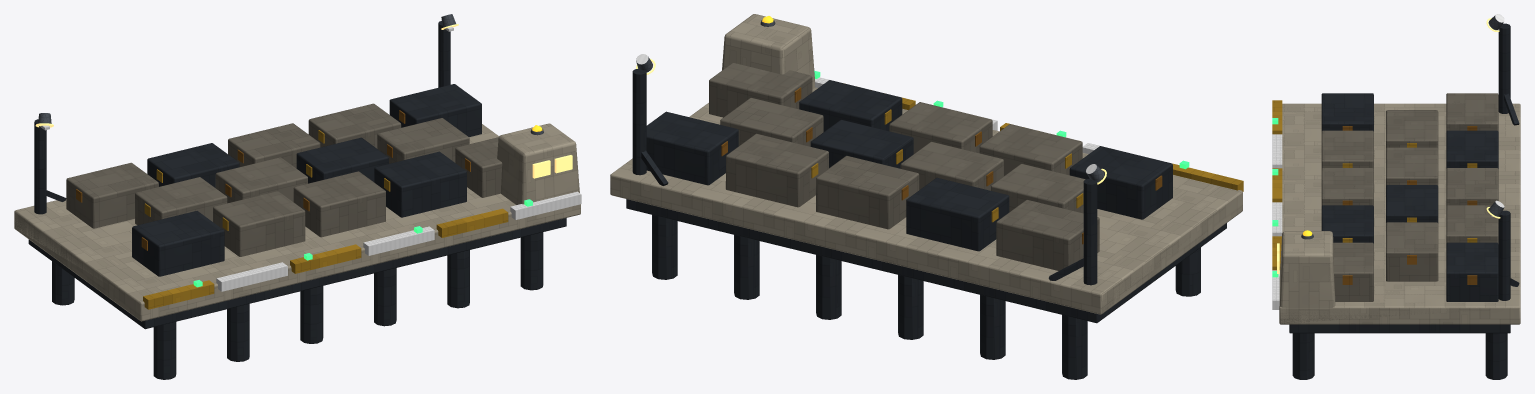
The model's file is place_freight_platform.glb.
3 views of the same model, side by side, from view 1: azimuth 30°, elevation 25°; view 2: azimuth 150°, elevation 25°; view 3: azimuth 270°, elevation 25° (orthographic). The views are drawn at different scales.
Parts seen in each view (by area): view 1: LOD0_Armor, LOD0_Hull_aged, LOD0_Hull, LOD1_Hull, LOD1_Hull_aged, LOD1_Armor, LOD0_Warning, LOD0_MechanicalDark, LOD1_Warning, LOD1_MechanicalDark, LOD0_Lights_Warm, LOD0_Livery; view 2: LOD0_Armor, LOD0_Hull_aged, LOD0_Hull, LOD1_Hull, LOD1_Hull_aged, LOD1_Armor, LOD0_Warning, LOD1_Warning, LOD0_Livery; view 3: LOD0_Hull, LOD0_Hull_aged, LOD0_Armor, LOD1_Hull, LOD1_Hull_aged, LOD1_Armor, LOD0_Warning, LOD0_MechanicalDark, LOD0_Livery, LOD1_Warning, LOD1_MechanicalDark, LOD0_Mechanical (+1 smaller).
Part boxes in pixels (x1,y1,x2,y2): LOD0_Armor: (28, 20, 566, 379); LOD0_Hull_aged: (66, 103, 502, 256); LOD0_Hull: (14, 123, 580, 321); LOD1_Hull: (14, 123, 580, 321); LOD1_Hull_aged: (66, 103, 501, 256); LOD1_Armor: (29, 30, 566, 361); LOD0_Warning: (143, 130, 508, 309); LOD0_MechanicalDark: (40, 26, 581, 291); LOD1_Warning: (143, 130, 508, 309); LOD1_MechanicalDark: (41, 28, 581, 291); LOD0_Lights_Warm: (35, 24, 572, 178); LOD0_Livery: (76, 110, 470, 250); LOD0_Armor: (626, 68, 1226, 379); LOD0_Hull_aged: (709, 63, 1099, 270); LOD0_Hull: (610, 14, 1242, 314); LOD1_Hull: (610, 14, 1241, 314); LOD1_Hull_aged: (709, 63, 1099, 265); LOD1_Armor: (626, 80, 1180, 379); LOD0_Warning: (811, 97, 1243, 222); LOD1_Warning: (811, 98, 1243, 221); LOD0_Livery: (721, 87, 1162, 244); LOD0_Hull: (1279, 103, 1520, 324); LOD0_Hull_aged: (1321, 93, 1498, 301); LOD0_Armor: (1289, 23, 1519, 379); LOD1_Hull: (1279, 103, 1520, 324); LOD1_Hull_aged: (1322, 93, 1498, 301); LOD1_Armor: (1290, 93, 1518, 333); LOD0_Warning: (1272, 100, 1477, 270); LOD0_MechanicalDark: (1272, 14, 1504, 309); LOD0_Livery: (1342, 126, 1477, 284); LOD1_Warning: (1272, 100, 1476, 269); LOD1_MechanicalDark: (1272, 28, 1498, 309); LOD0_Mechanical: (1301, 15, 1503, 239).
Size of what is drawn, in the model's own units: 24 by 10.02 by 12.35.
10 materials, 7 textured.
